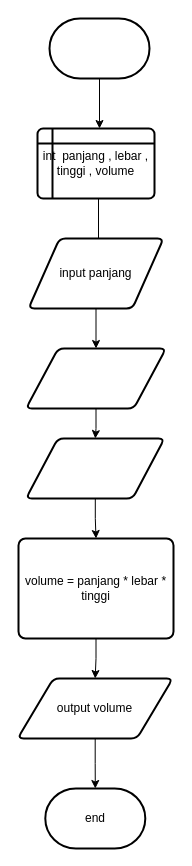
The diagram is 192 pixels wide and 866 high, and some of its shapes have lost their labels. Each missing label, with the centre of its shape:
"input lebar" belongs at (x=95, y=378).
"input tinggi" belongs at (x=94, y=468).
"start" belongs at (x=99, y=48).
